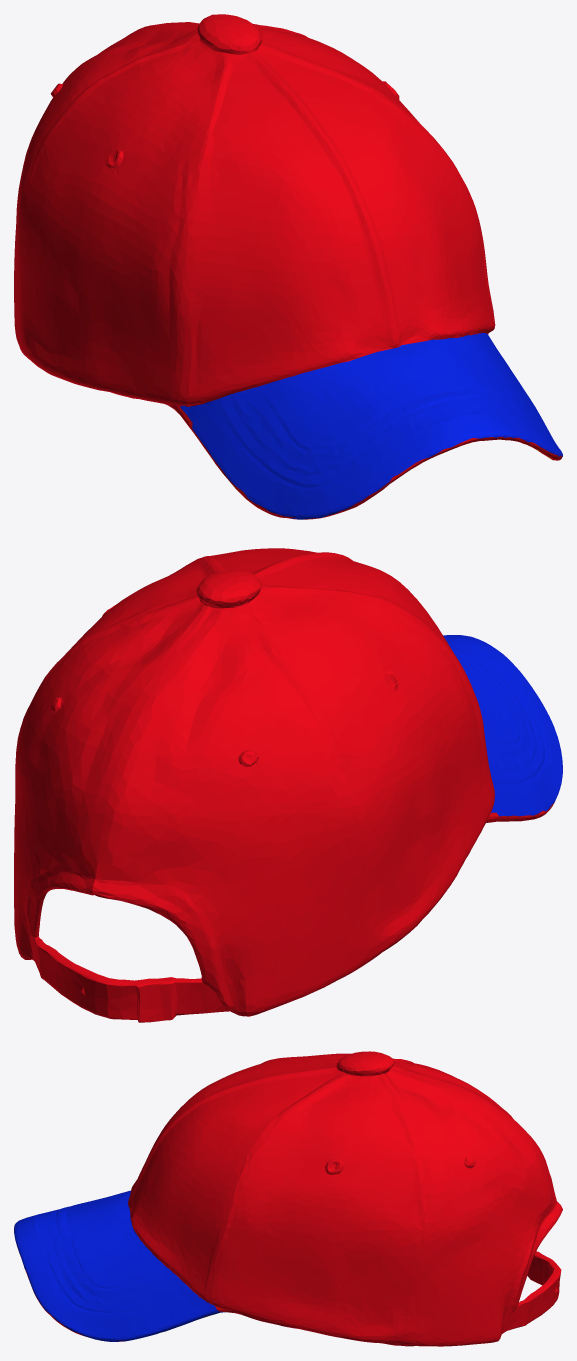
File: DOKKA_DADHAT_FINALVERSION.glb
3 views of the same model, one above another, from view 1: azimuth 30°, elevation 25°; view 2: azimuth 150°, elevation 25°; view 3: azimuth 270°, elevation 25° (orthographic). The views are drawn at different scales.
Parts seen in each view (by area): view 1: DADHAT_FINAL_DOKKA; view 2: DADHAT_FINAL_DOKKA; view 3: DADHAT_FINAL_DOKKA.
Boxes of the visible parts, left/top/right/bottom form: DADHAT_FINAL_DOKKA: left=14, top=14, right=562, bottom=519; DADHAT_FINAL_DOKKA: left=14, top=548, right=562, bottom=1022; DADHAT_FINAL_DOKKA: left=14, top=1051, right=562, bottom=1346.
Size of the model in its own units: 0.5157 by 0.4555 by 0.9203.
